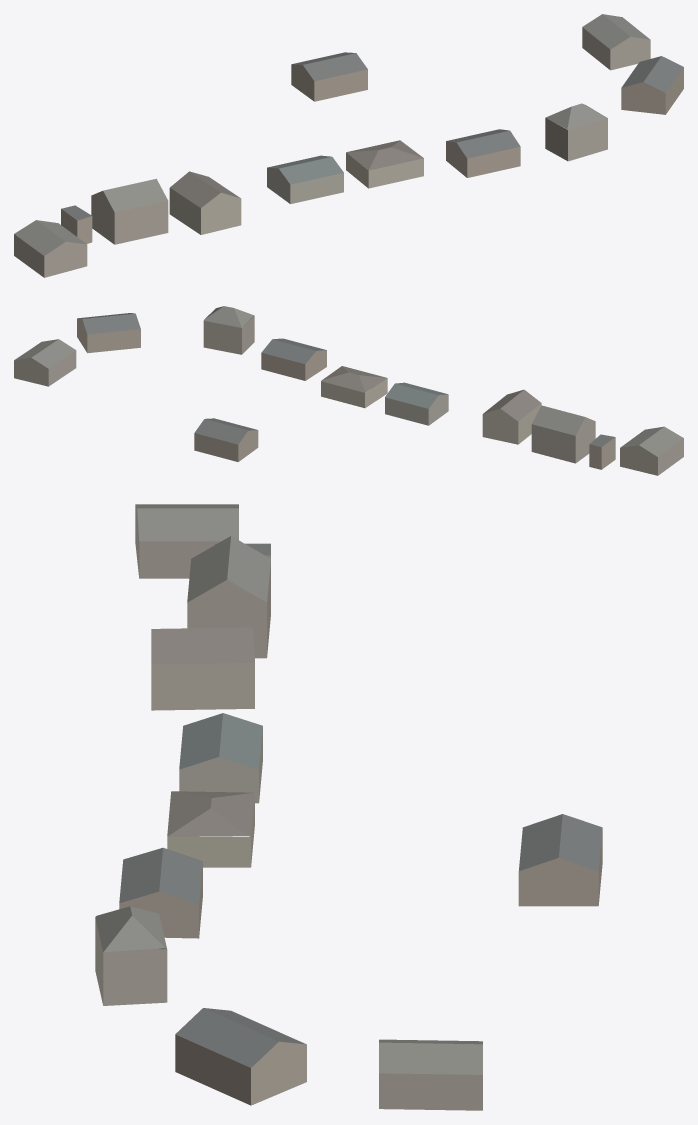
File: 9907c954e385-chunk-1203_11845.glb
3 views of the same model, one above another, from view 1: azimuth 30°, elevation 25°; view 2: azimuth 150°, elevation 25°; view 3: azimuth 270°, elevation 25° (orthographic). The views are drawn at different scales.
Parts seen in each view (by area): view 1: building_55570, building_146183, building_133102, building_135254, building_168845, building_103088, building_90619, building_53369, building_24805, building_106955, building_111895; view 2: building_55570, building_133102, building_146183, building_103088, building_53369, building_135254, building_168845, building_24805, building_90619, building_106955, building_111895; view 3: building_103088, building_146183, building_53369, building_55570, building_135254, building_168845, building_133102, building_106955, building_90619, building_24805.
Boxes of the visible parts, x1,y1,x2,y2 form: building_55570: (91, 178, 168, 244); building_146183: (169, 171, 241, 234); building_133102: (14, 220, 87, 277); building_135254: (291, 52, 367, 101); building_168845: (545, 103, 607, 161); building_103088: (621, 56, 683, 114); building_90619: (267, 155, 343, 204); building_53369: (582, 14, 650, 70); building_24805: (446, 129, 520, 177); building_106955: (346, 140, 423, 188); building_111895: (61, 205, 92, 243); building_55570: (531, 405, 595, 463); building_133102: (620, 426, 683, 475); building_146183: (482, 389, 541, 444); building_103088: (77, 313, 140, 353); building_53369: (14, 339, 76, 386); building_135254: (194, 418, 258, 461); building_168845: (203, 306, 254, 354); building_24805: (261, 338, 326, 380); building_90619: (385, 382, 448, 425); building_106955: (321, 366, 387, 408); building_111895: (589, 434, 615, 469); building_103088: (175, 1008, 306, 1105); building_146183: (151, 627, 254, 710); building_53369: (379, 1039, 482, 1110); building_55570: (187, 536, 270, 658); building_135254: (518, 814, 602, 906); building_168845: (95, 906, 167, 1005); building_133102: (135, 504, 238, 578); building_106955: (167, 791, 254, 867); building_90619: (179, 713, 262, 803); building_24805: (119, 847, 202, 938).
Size of the model in its own units: 152 by 9.75 by 57.16.
